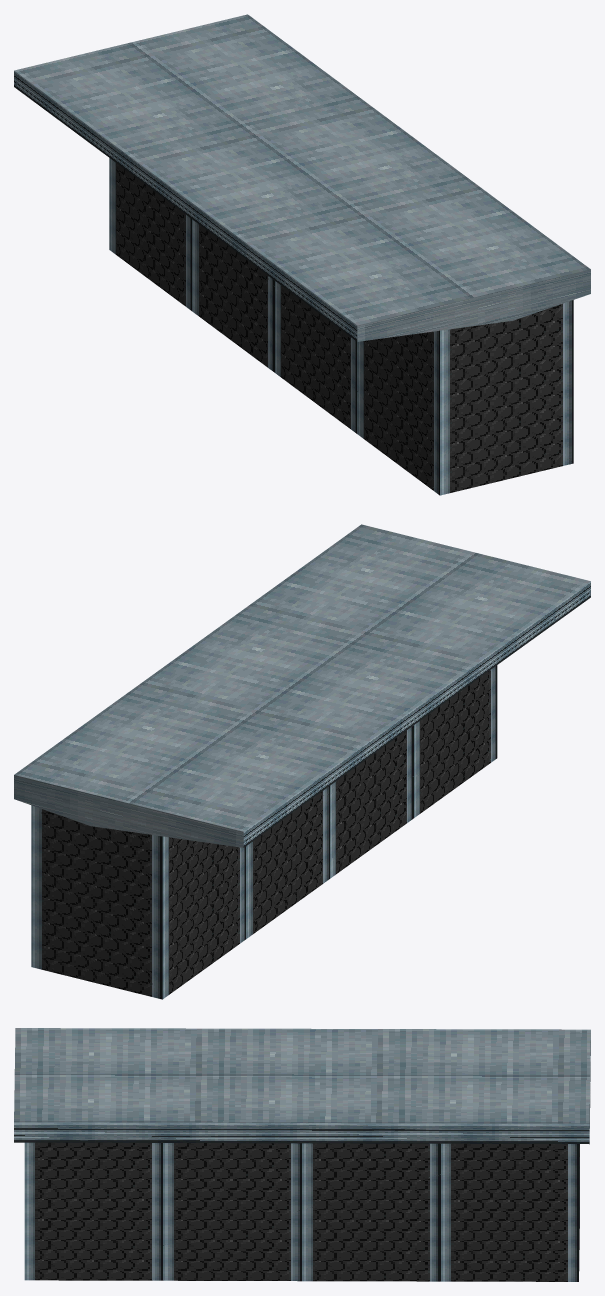
Rendered from primary_126.glb.
3 views of the same model, one above another, from view 1: azimuth 30°, elevation 25°; view 2: azimuth 150°, elevation 25°; view 3: azimuth 270°, elevation 25° (orthographic). The views are drawn at different scales.
Visible parts, largest first — view 1: Object; view 2: Object; view 3: Object.
Boxes of the visible parts, bbox=[...] form: Object: bbox=[14, 14, 590, 495]; Object: bbox=[14, 524, 590, 999]; Object: bbox=[14, 1028, 590, 1281].
Size of the model in its own units: 1.29 by 1.02 by 3.28.
3 materials, 3 textured.
